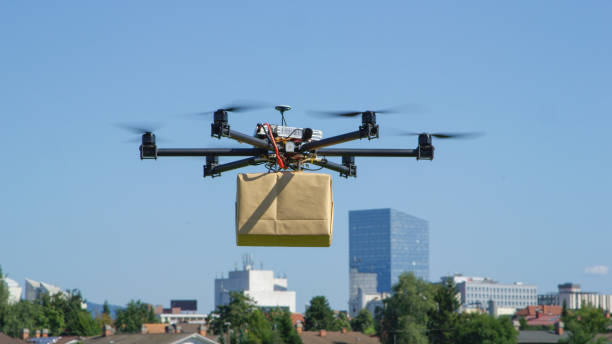Drone: (116, 98, 488, 185)
